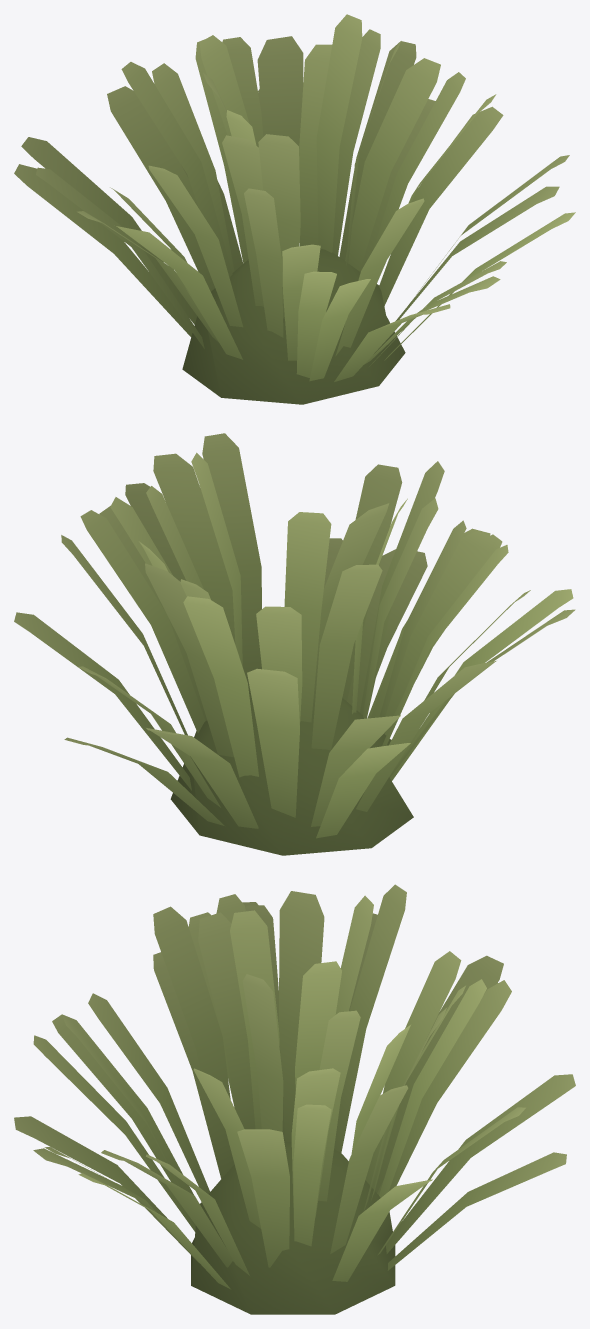
Rendered from tuft-e.glb.
The picture shows the model from 3 angles, top to bottom: view 1: azimuth 30°, elevation 25°; view 2: azimuth 150°, elevation 25°; view 3: azimuth 270°, elevation 25°; orthographic projection. The views are drawn at different scales.
Visible parts, largest first — view 1: tuft_e_grass_tuft; view 2: tuft_e_grass_tuft; view 3: tuft_e_grass_tuft.
Part boxes in pixels (x1,y1,x2,y2): tuft_e_grass_tuft: (14, 14, 575, 404); tuft_e_grass_tuft: (14, 433, 575, 855); tuft_e_grass_tuft: (14, 884, 575, 1314).
Bounding box in the file's own units: 0.2986 × 0.2 × 0.2971.
